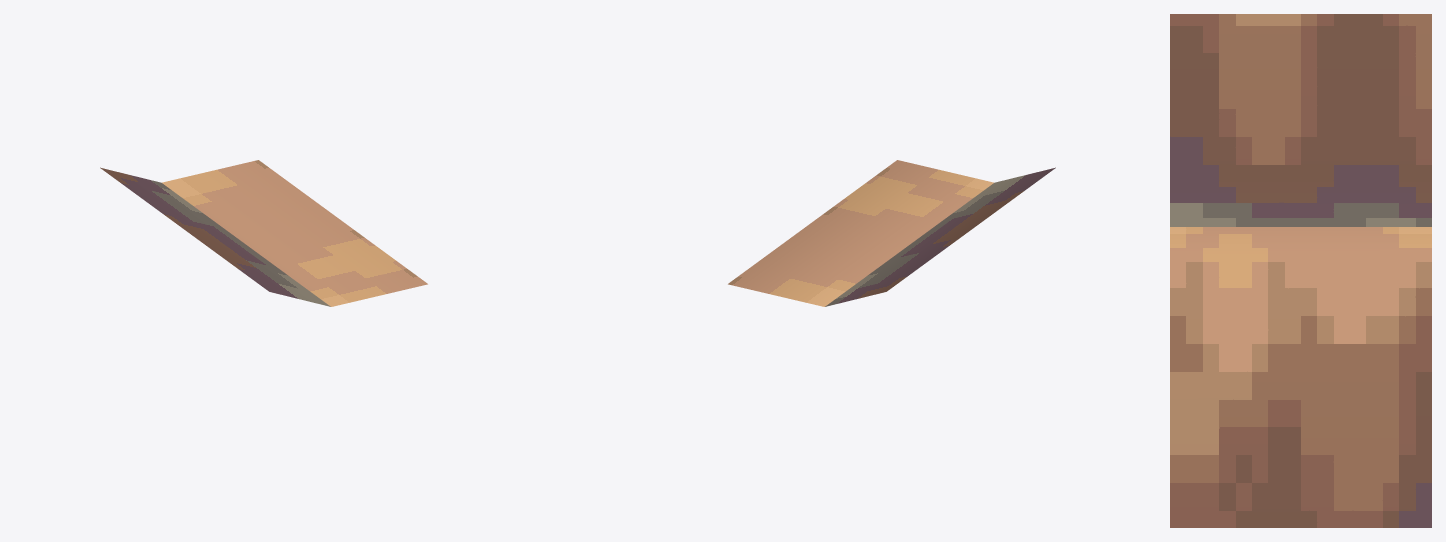
3 views of the same model, side by side, from view 1: azimuth 30°, elevation 25°; view 2: azimuth 150°, elevation 25°; view 3: azimuth 270°, elevation 25° (orthographic). The views are drawn at different scales.
Bounding box in the file's own units: 1.29 × 1.57 × 1.
1 material, 1 textured.
